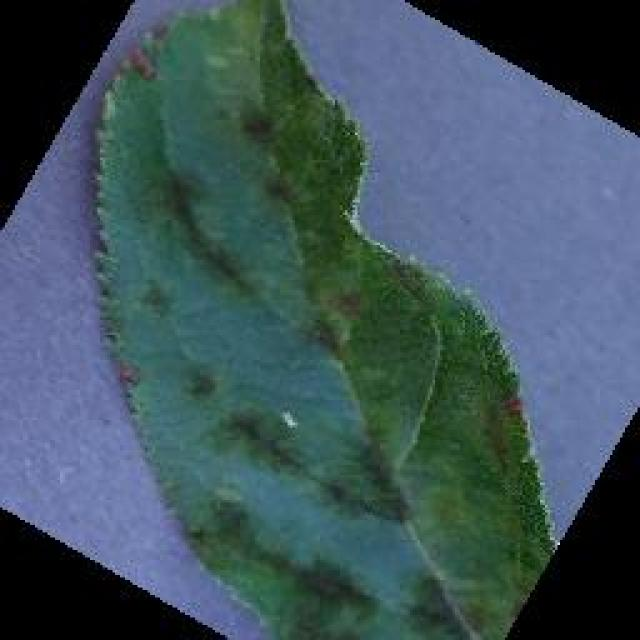Apple___Apple_scab: (88, 0, 562, 638)
